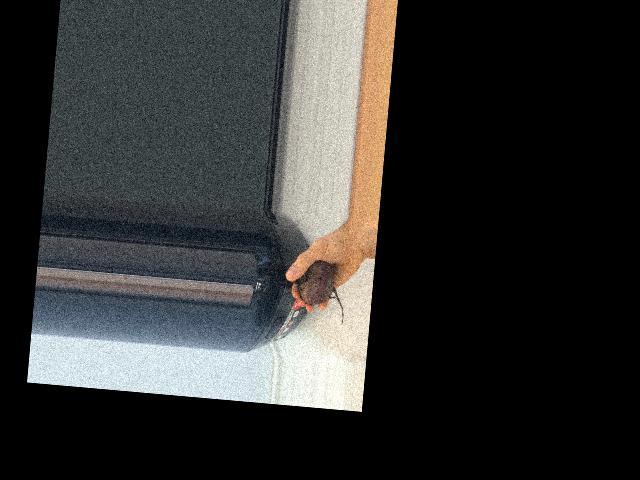beet: (289, 258, 348, 325)
